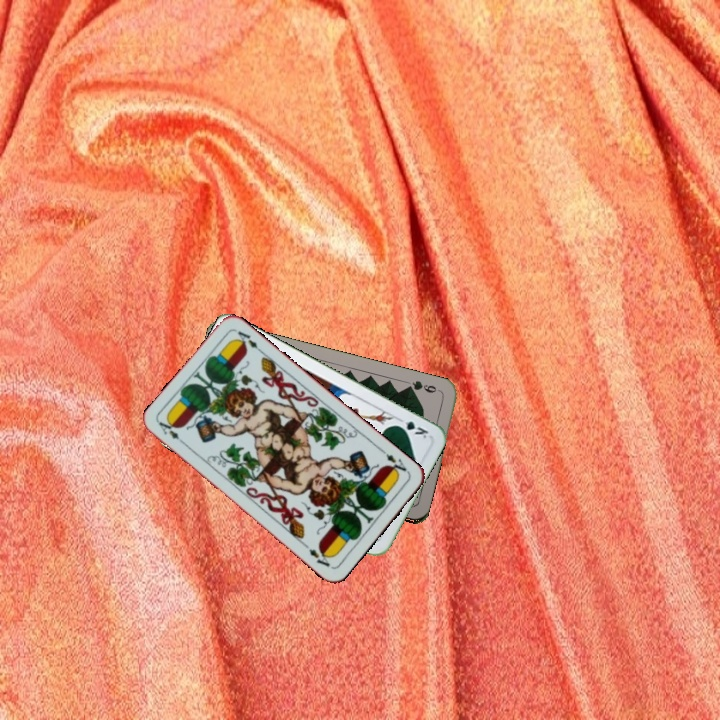EA: (377, 445, 411, 478), (155, 417, 189, 448)
G9: (402, 376, 443, 395)
GK: (392, 414, 432, 441)
